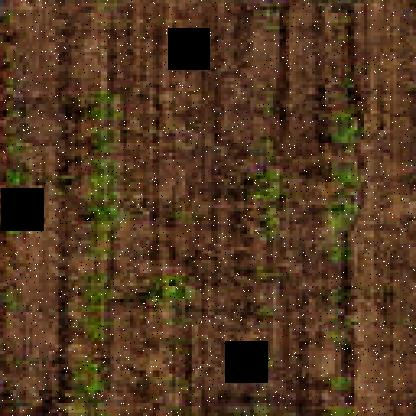sorghum_plant: (74, 87, 118, 416), (321, 83, 361, 270), (317, 285, 368, 416), (246, 126, 287, 266), (0, 111, 44, 240), (145, 265, 198, 314)
